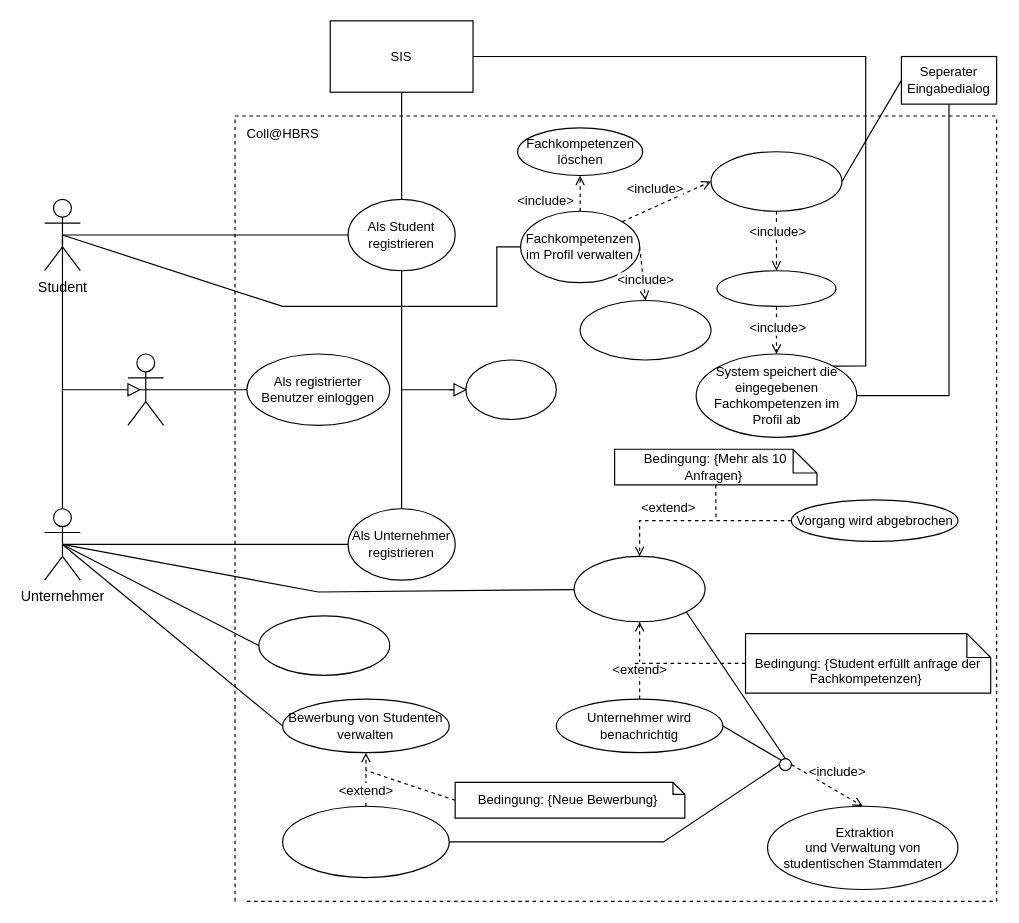
This 1019x923 diagram has some shape labels left out. Each missing label, with the centre of its shape:
"Als Benutzer registrieren" belongs at (510,389).
"Benutzer" belongs at (145,389).
"Einordnung in Kategorien" belongs at (776,288).
"Fachkompetenzen abfragen" belongs at (776,181).
"Fachkompetenzen aktualisieren" belongs at (645,329).
"Stellenanzeige für Studenten aufgeben" belongs at (324,645).
"Suchanfrage für Fachkompetenzen eintragen" belongs at (639,588).
"Unternehmer über neue Bewerbung informieren" belongs at (365,841).
